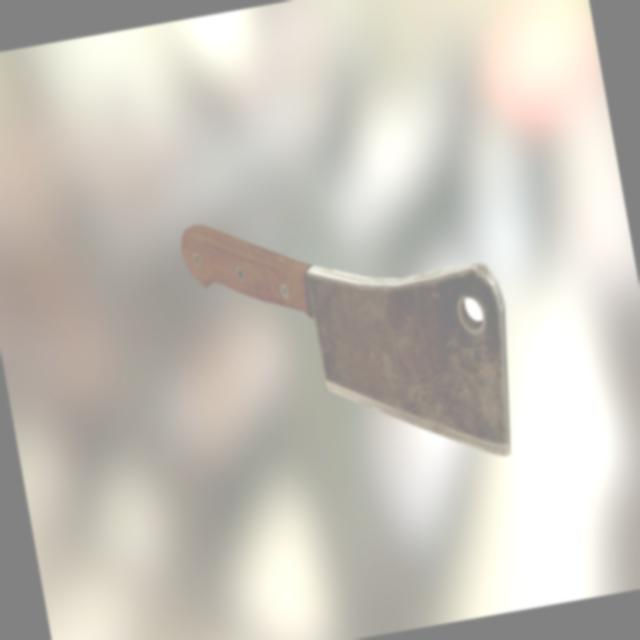cleaver: (179, 170, 525, 500)
